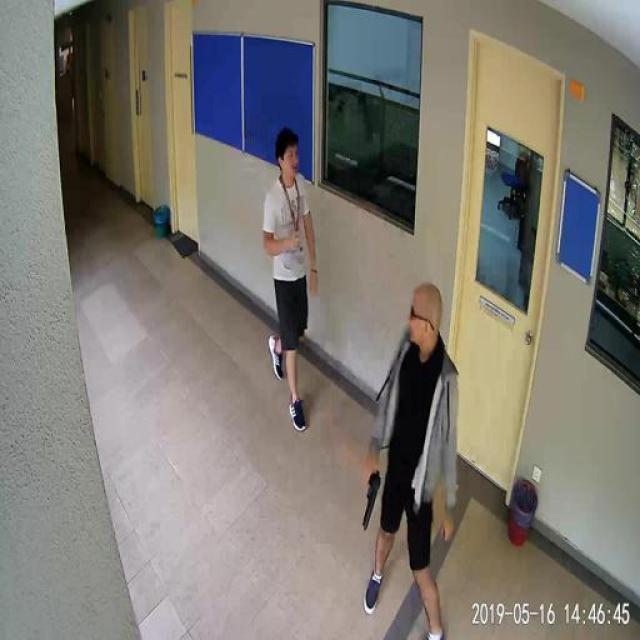weapon: (360, 468, 382, 530)
